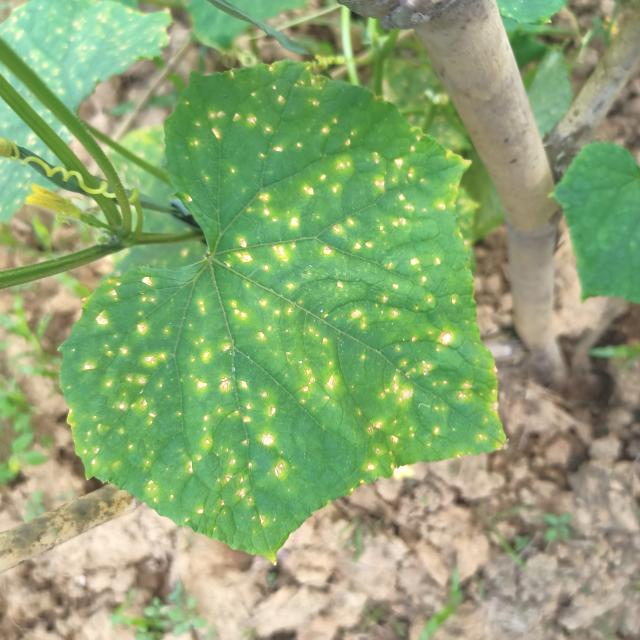disease_cucumber: (73, 90, 477, 529)
